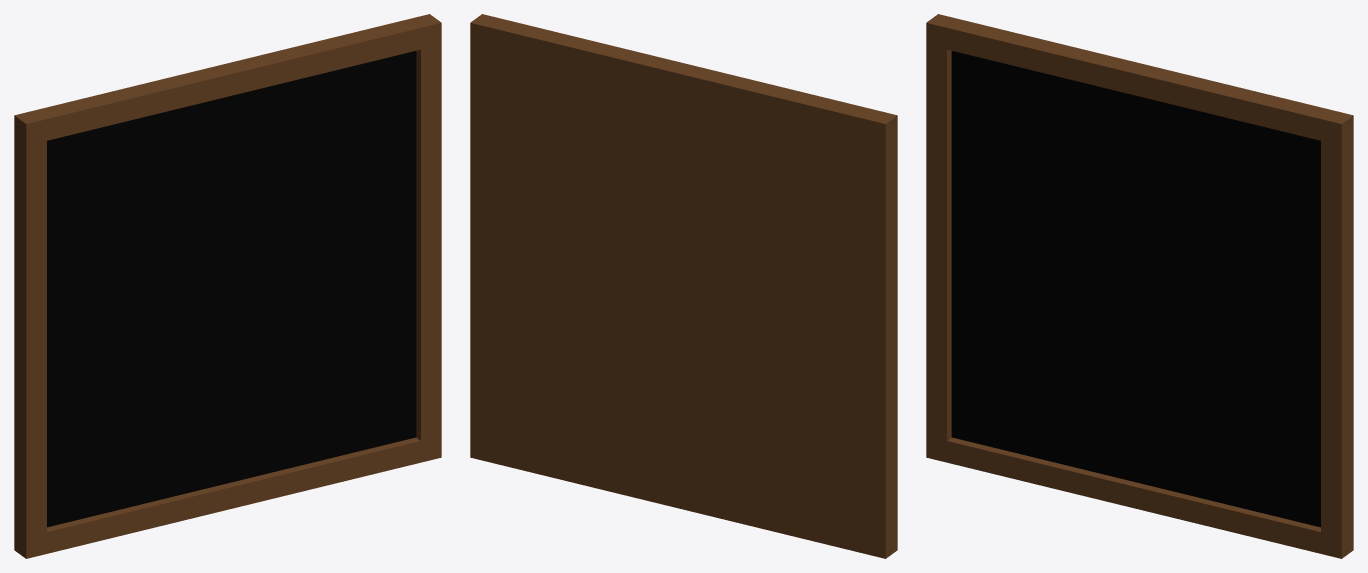
File: Cuadro_Pared01.fbx
3 renders of one model, left to right at view 1: azimuth 30°, elevation 25°; view 2: azimuth 150°, elevation 25°; view 3: azimuth 330°, elevation 25°, orthographic.
Parts seen in each view (by area): view 1: Cuadro01; view 2: Cuadro01; view 3: Cuadro01.
Boxes of the visible parts, x1,y1,x2,y2 form: Cuadro01: [14, 14, 441, 558]; Cuadro01: [470, 14, 897, 558]; Cuadro01: [926, 14, 1353, 558].
Size of the model in its own units: 100 by 100 by 5.
